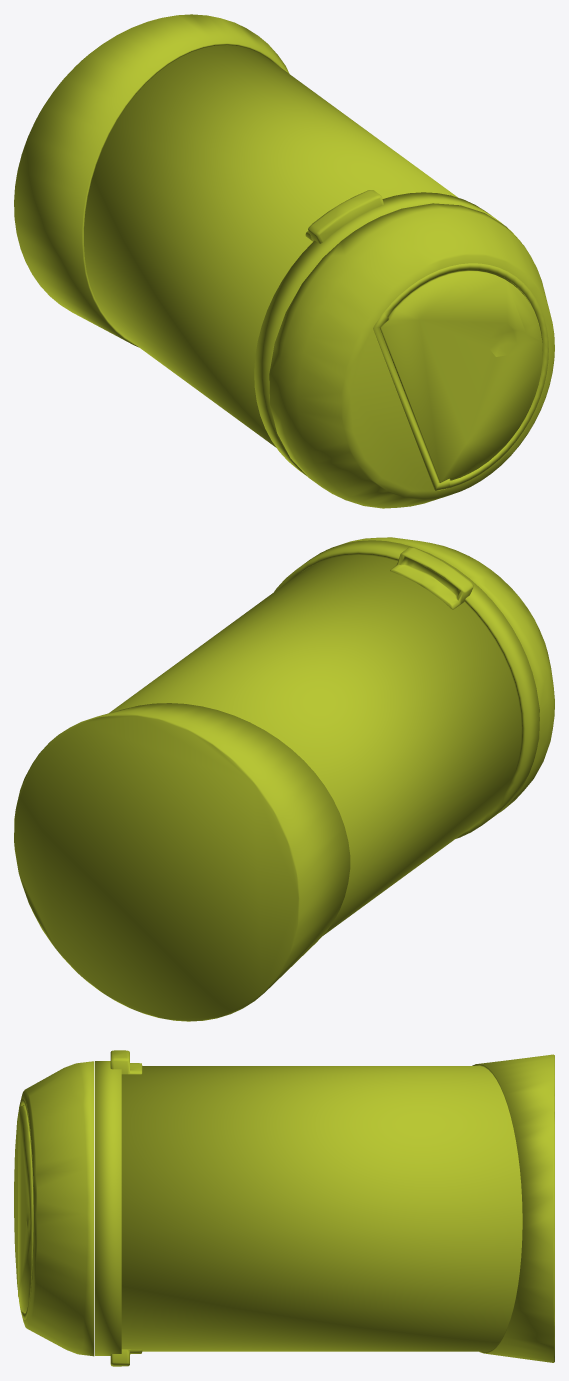
The model's file is trashcan.fbx.
3 views of the same model, one above another, from view 1: azimuth 30°, elevation 25°; view 2: azimuth 150°, elevation 25°; view 3: azimuth 270°, elevation 25° (orthographic). The views are drawn at different scales.
Visible parts, largest first — view 1: Touch bin_obj; view 2: Touch bin_obj; view 3: Touch bin_obj.
Boxes of the visible parts, x1,y1,x2,y2 form: Touch bin_obj: (14, 14, 554, 508); Touch bin_obj: (14, 537, 554, 1021); Touch bin_obj: (14, 1050, 554, 1366).
Size of the model in its own units: 1789 by 1816 by 3135.
